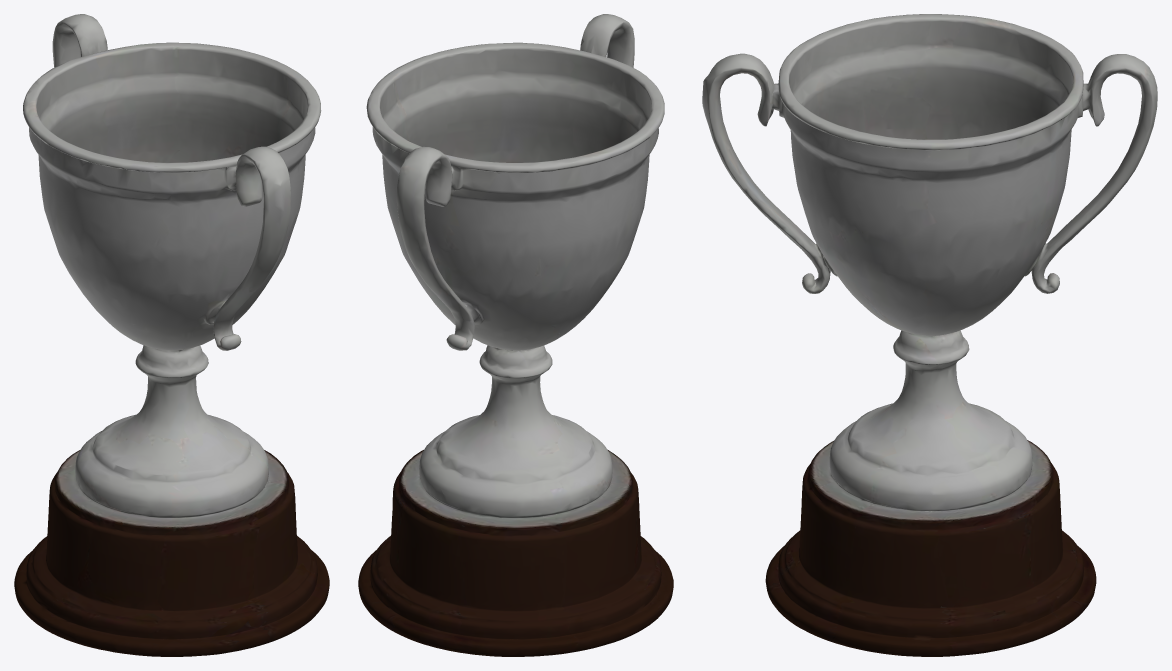
File: trophy.glb
The picture shows the model from 3 angles, left to right: view 1: azimuth 30°, elevation 25°; view 2: azimuth 150°, elevation 25°; view 3: azimuth 270°, elevation 25°; orthographic projection. The views are drawn at different scales.
Parts seen in each view (by area): view 1: tripo_node_2de7100c-ae44-4dab-aa23-5185b45c4cf5; view 2: tripo_node_2de7100c-ae44-4dab-aa23-5185b45c4cf5; view 3: tripo_node_2de7100c-ae44-4dab-aa23-5185b45c4cf5.
Part boxes in pixels (box(x1,y1,x2,y2)): tripo_node_2de7100c-ae44-4dab-aa23-5185b45c4cf5: box(14, 14, 329, 656); tripo_node_2de7100c-ae44-4dab-aa23-5185b45c4cf5: box(358, 14, 673, 656); tripo_node_2de7100c-ae44-4dab-aa23-5185b45c4cf5: box(702, 14, 1157, 656).
Bounding box in the file's own units: 0.5624 × 1 × 0.7736.
1 material, 1 textured.
